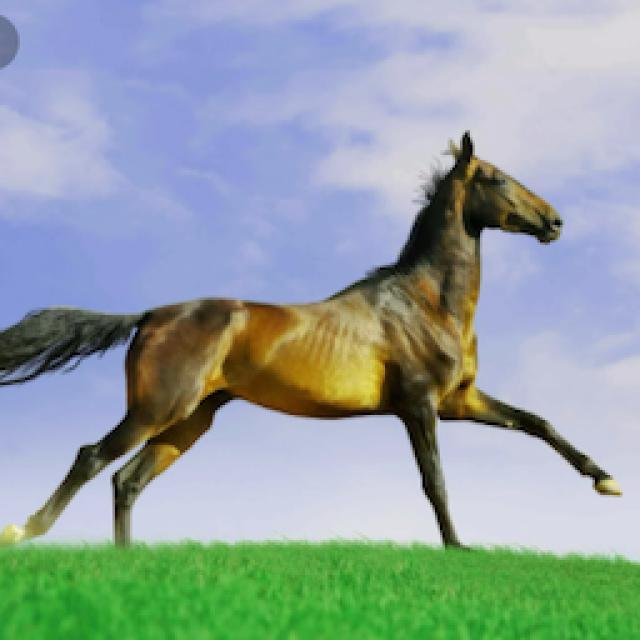Horse: (2, 125, 628, 555)
